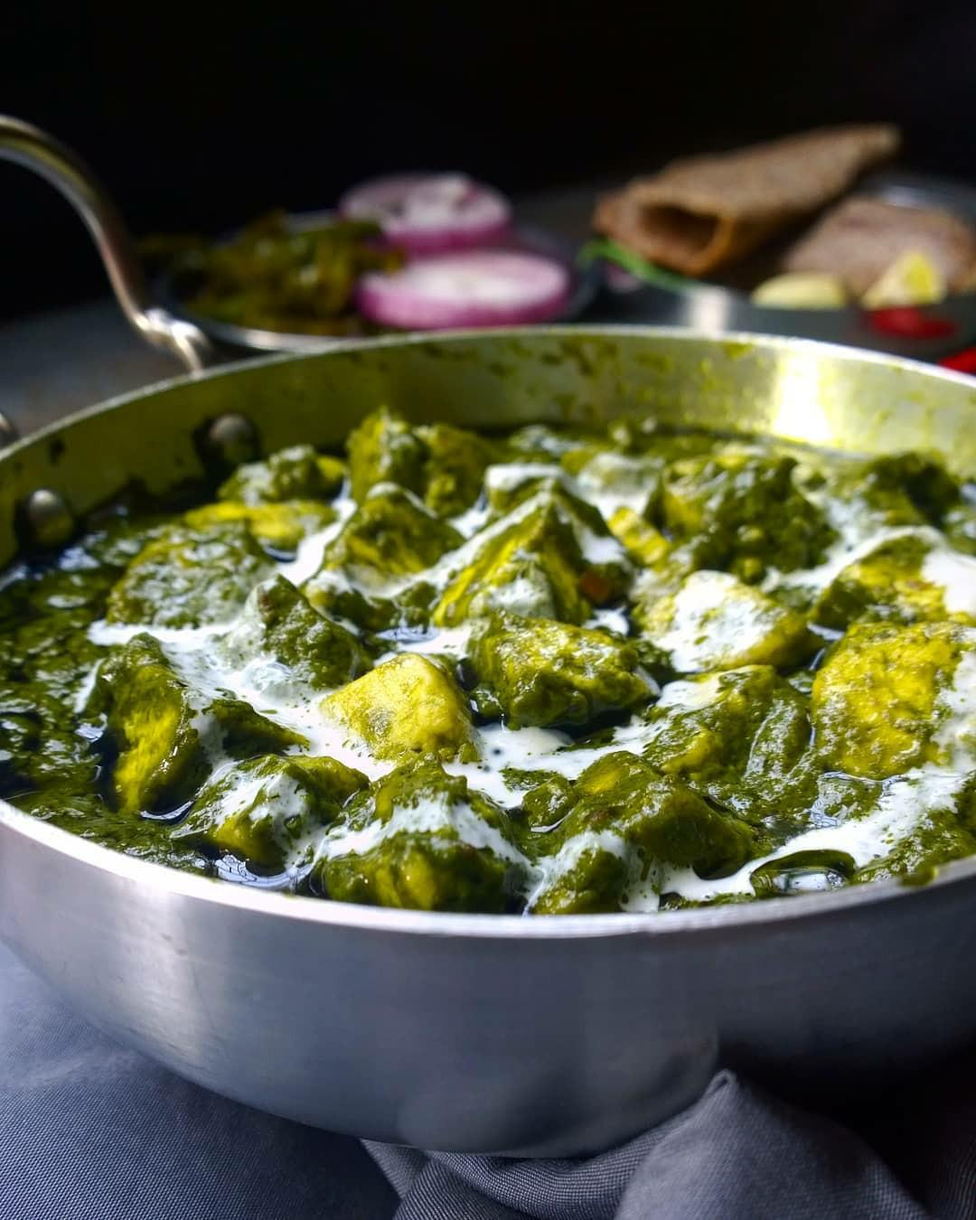PalakPaneer: (10, 413, 976, 931)
